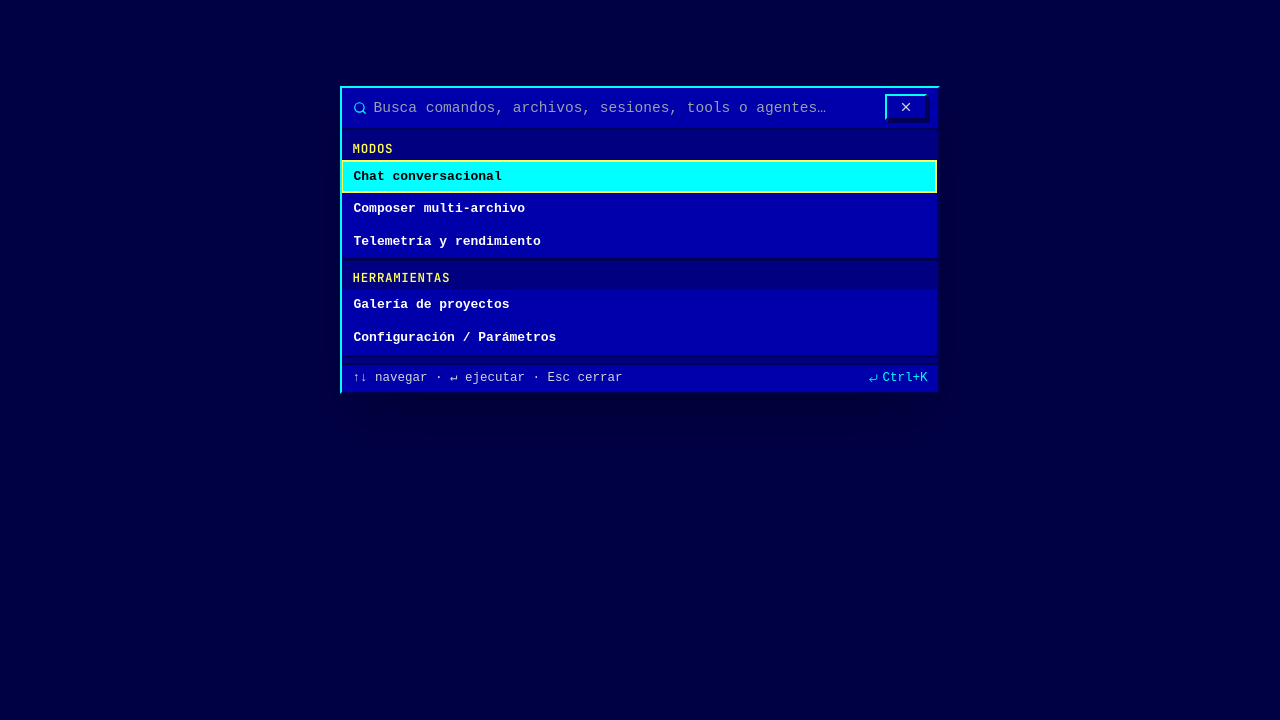
CommandPalette › filtra por el texto introducido
Type "composer" into the field named "Paleta de comandos" at (626,108), box 374,98 -> 878,119
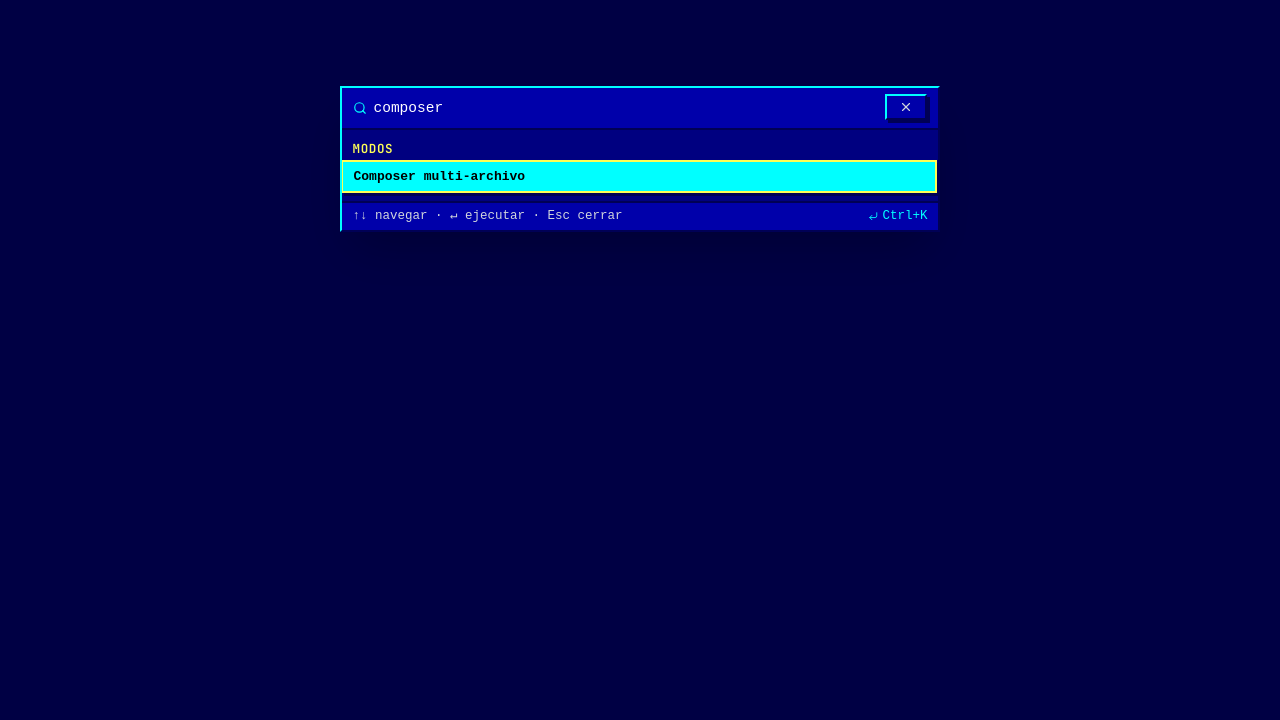
Check: the option "Composer multi-archivo" is shown, box 342,160 -> 937,193
Check: the option "Chat conversacional" is gone
